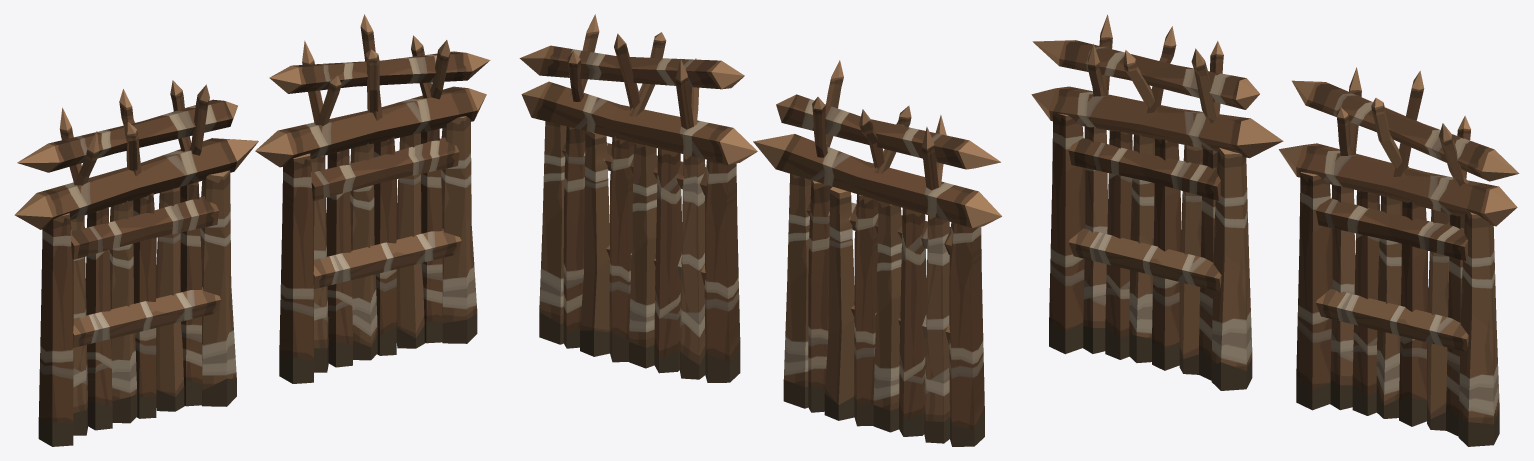
File: bog_wall_b.gltf
3 renders of one model, left to right at view 1: azimuth 30°, elevation 25°; view 2: azimuth 150°, elevation 25°; view 3: azimuth 330°, elevation 25°, orthographic. The views are drawn at different scales.
Parts seen in each view (by area): view 1: bog_wall_b; view 2: bog_wall_b; view 3: bog_wall_b.
Part boxes in pixels (box(x1,y1,x2,y2)): bog_wall_b: box(14, 14, 490, 446); bog_wall_b: box(519, 14, 1001, 446); bog_wall_b: box(1031, 14, 1519, 446).
Bounding box in the file's own units: 9.91 × 6.66 × 1.13.
Materials: 1 (1 with a texture image).
